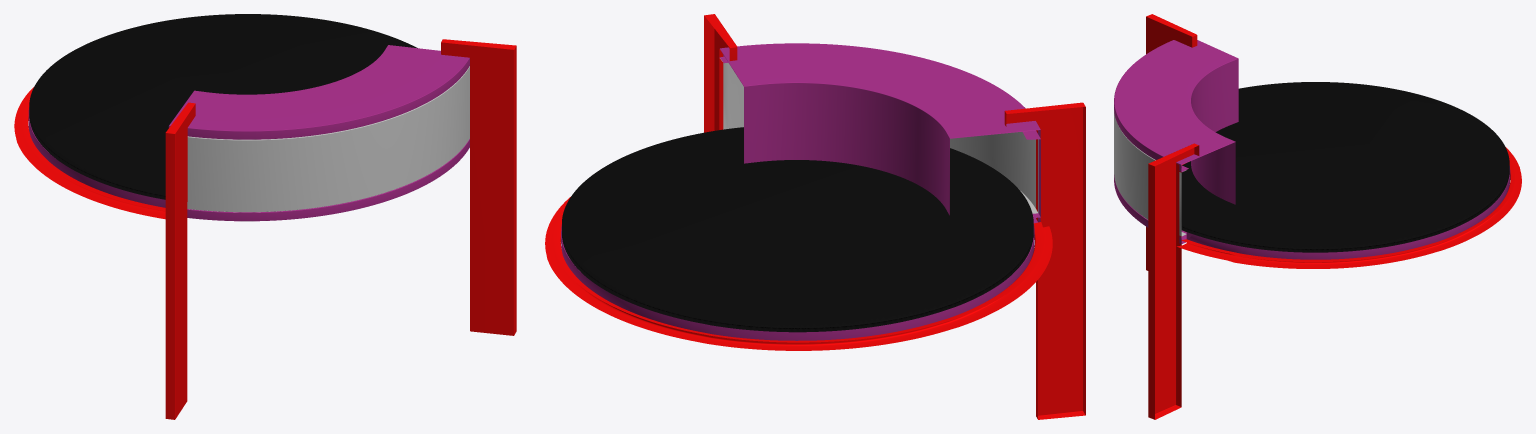
The model's file is StudioLuxuryFascard_01_Mesh.fbx.
3 renders of one model, left to right at view 1: azimuth 30°, elevation 25°; view 2: azimuth 150°, elevation 25°; view 3: azimuth 270°, elevation 25°, orthographic. The views are drawn at different scales.
Parts seen in each view (by area): view 1: StudioLuxuryFascard_01_Mesh; view 2: StudioLuxuryFascard_01_Mesh; view 3: StudioLuxuryFascard_01_Mesh.
Part boxes in pixels (x1=…): StudioLuxuryFascard_01_Mesh: x1=14, y1=14, x2=516, y2=419; StudioLuxuryFascard_01_Mesh: x1=545, y1=14, x2=1085, y2=419; StudioLuxuryFascard_01_Mesh: x1=1114, y1=14, x2=1521, y2=419.
Size of the model in its own units: 1203 by 807 by 1176.
